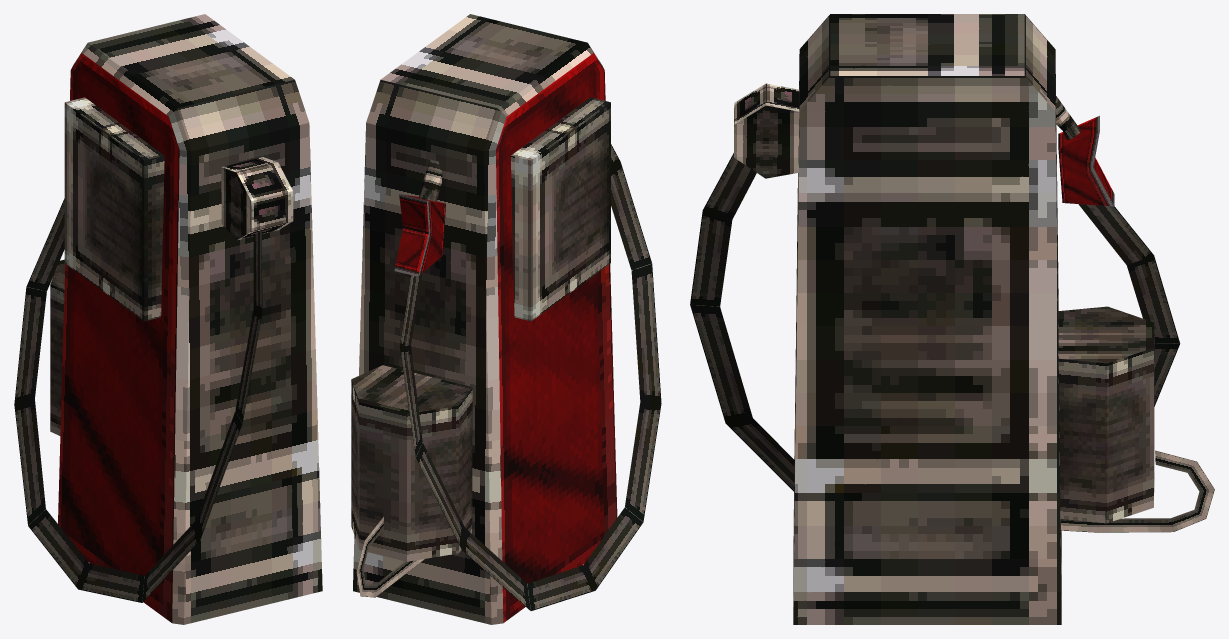
Rendered from prop_gas_pump.glb.
The picture shows the model from 3 angles, left to right: view 1: azimuth 30°, elevation 25°; view 2: azimuth 150°, elevation 25°; view 3: azimuth 270°, elevation 25°; orthographic projection. The views are drawn at different scales.
Visible parts, largest first — view 1: Gas_pump; view 2: Gas_pump; view 3: Gas_pump.
Part boxes in pixels (x1,y1,x2,y2): Gas_pump: (14, 14, 322, 624); Gas_pump: (351, 14, 661, 624); Gas_pump: (690, 14, 1214, 624).
Size of the model in its own units: 0.6976 by 1.84 by 1.61.
1 material, 1 textured.
